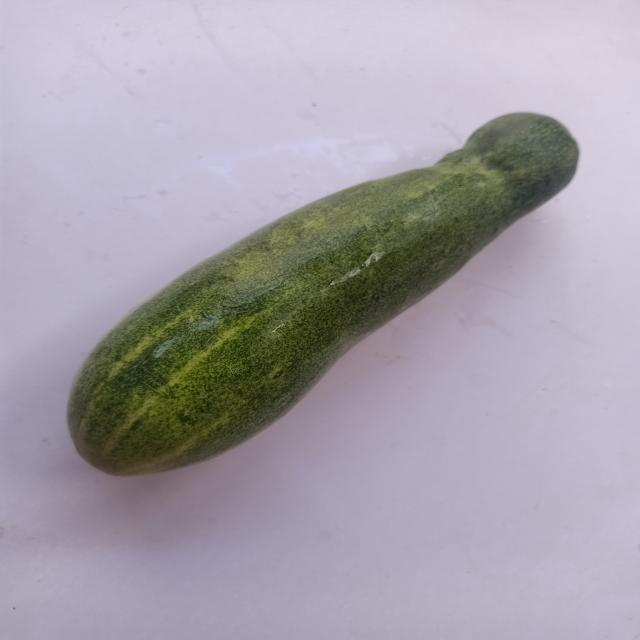Cucumber: (67, 112, 579, 476)
